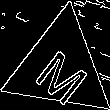M_NE: (28, 33, 92, 102)
